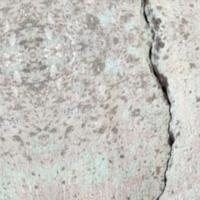crack: (130, 0, 195, 197)
